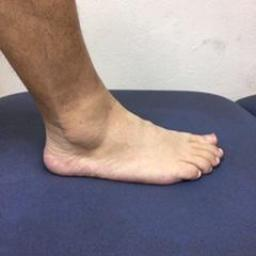Lateral View -Right Foot-: (24, 86, 225, 196)
